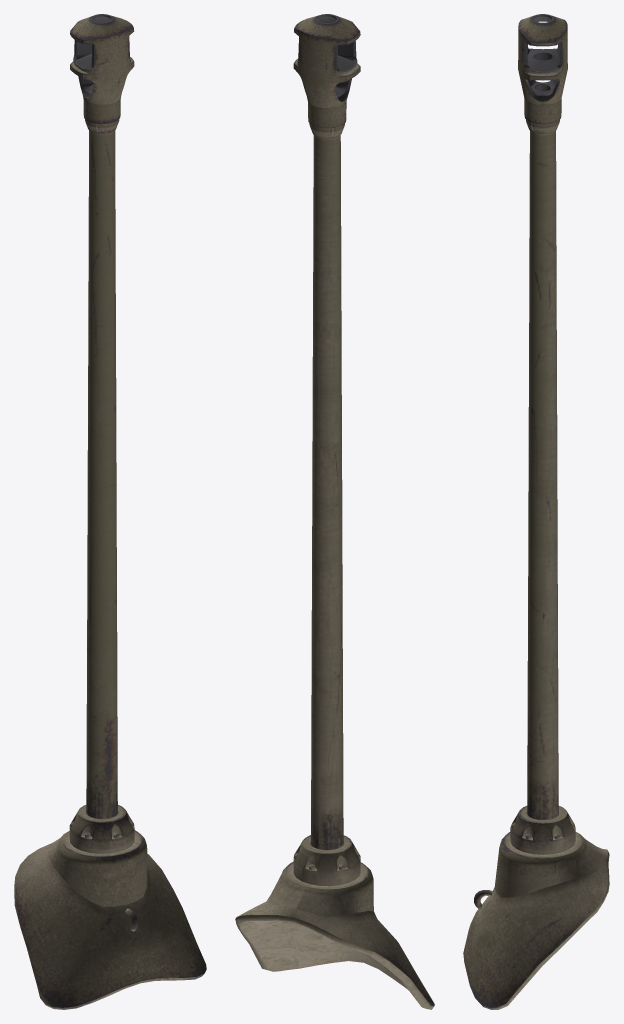
The model's file is Gun_02.glb.
3 views of the same model, side by side, from view 1: azimuth 30°, elevation 25°; view 2: azimuth 150°, elevation 25°; view 3: azimuth 270°, elevation 25° (orthographic). The views are drawn at different scales.
Parts seen in each view (by area): view 1: set_0_group_0; view 2: set_0_group_0; view 3: set_0_group_0.
Boxes of the visible parts, x1,y1,x2,y2 form: set_0_group_0: (14, 14, 206, 1009); set_0_group_0: (235, 14, 434, 1009); set_0_group_0: (463, 14, 609, 1009).
Bounding box in the file's own units: 1.06 × 5.93 × 0.8244.
Materials: 1 (1 with a texture image).
